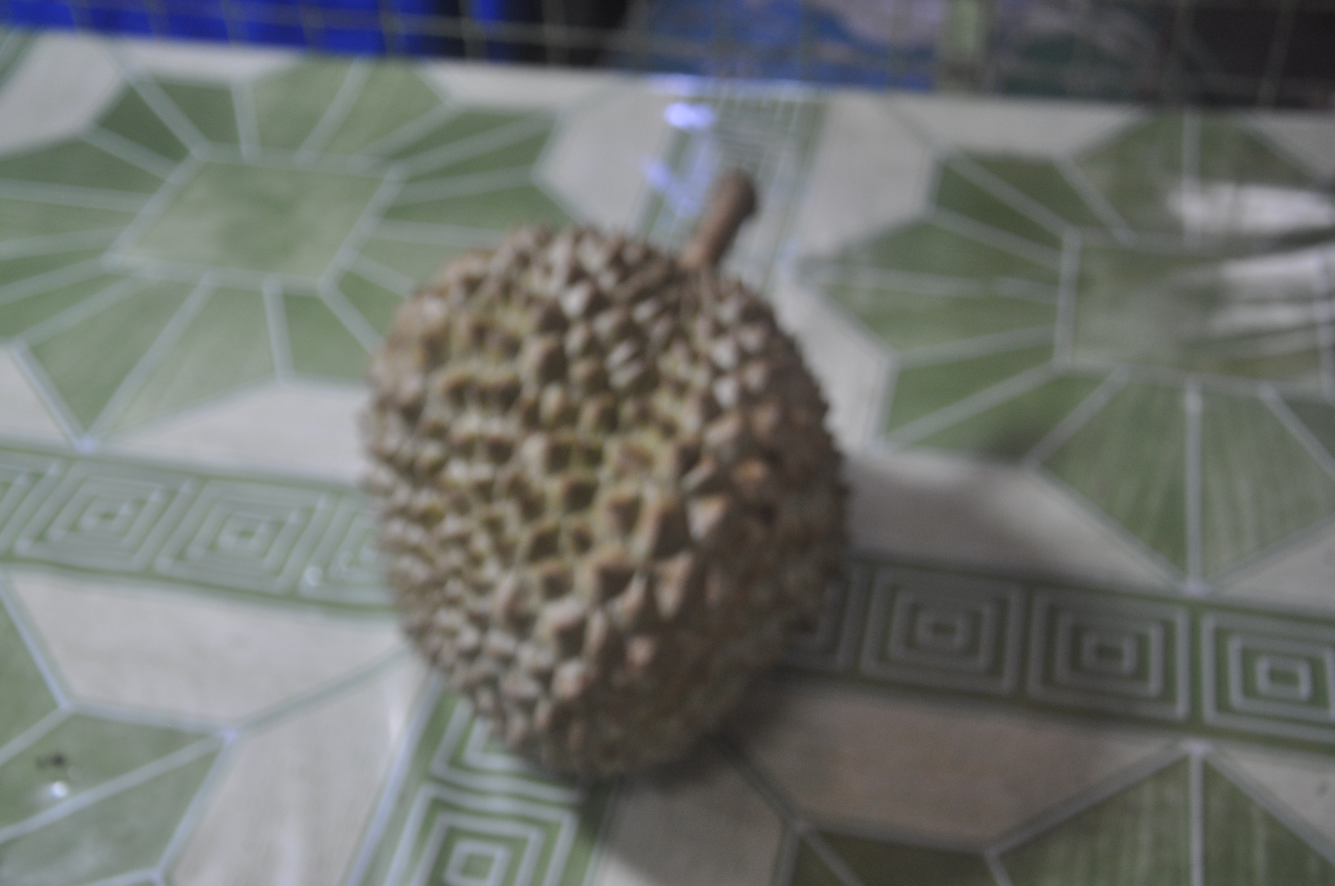mature: (286, 72, 924, 816)
